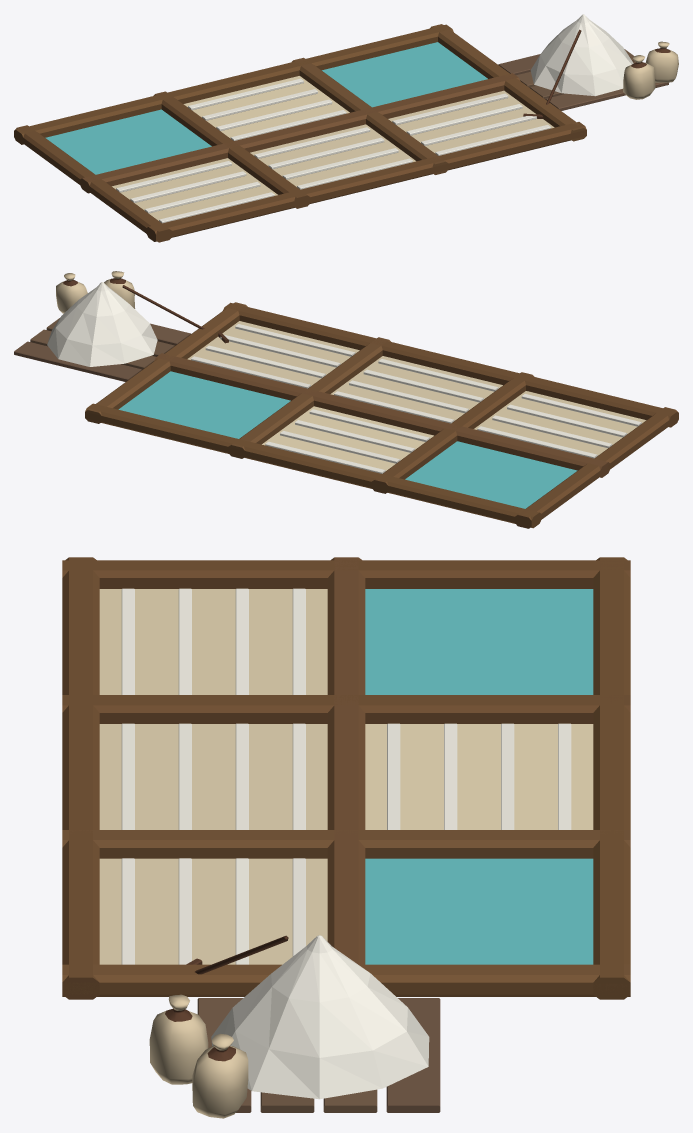
Rendered from prop_salt_pans_a.glb.
3 renders of one model, top to bottom at view 1: azimuth 30°, elevation 25°; view 2: azimuth 150°, elevation 25°; view 3: azimuth 270°, elevation 25°, orthographic. The views are drawn at different scales.
Parts seen in each view (by area): view 1: prop_salt_pans_a_mesh; view 2: prop_salt_pans_a_mesh; view 3: prop_salt_pans_a_mesh.
Boxes of the visible parts, box(x1,y1,x2,y2) form: prop_salt_pans_a_mesh: box(14, 14, 678, 242); prop_salt_pans_a_mesh: box(14, 271, 678, 528); prop_salt_pans_a_mesh: box(62, 557, 630, 1118).
Bounding box in the file's own units: 9.64 × 1.02 × 4.24.
